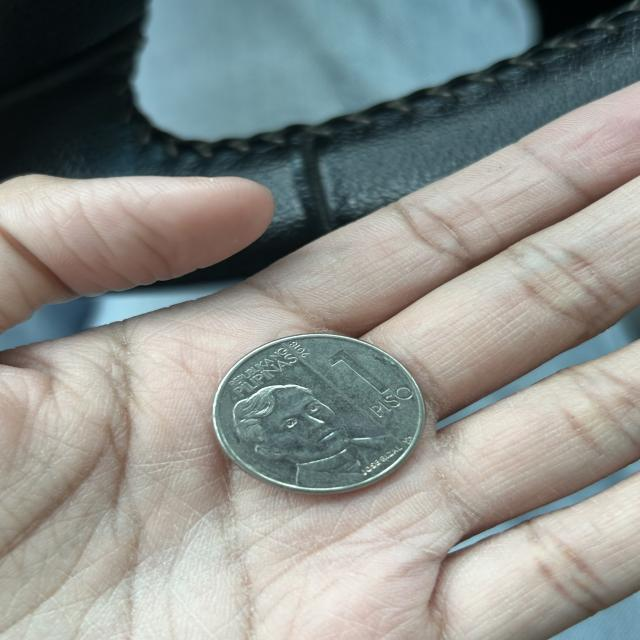1_New_Front: (335, 354, 411, 422)
